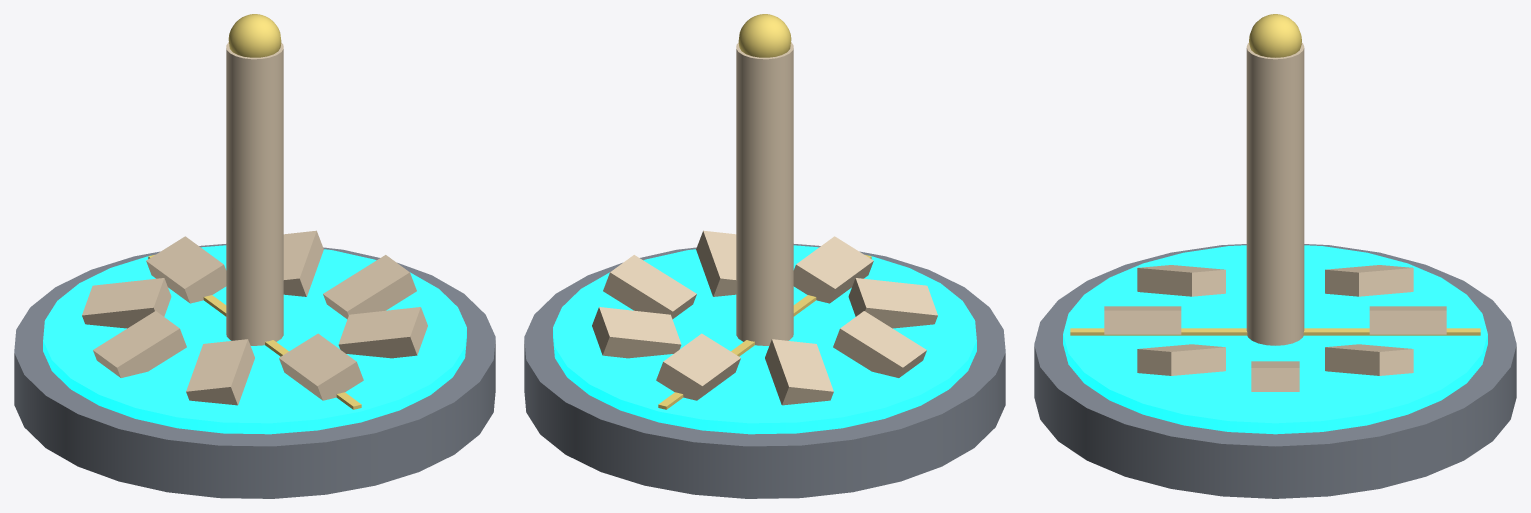
The model's file is Solstitial_Lotus_Gnomon.glb.
3 views of the same model, side by side, from view 1: azimuth 30°, elevation 25°; view 2: azimuth 150°, elevation 25°; view 3: azimuth 270°, elevation 25° (orthographic).
Visible parts, largest first — view 1: OuterBasin, CoolingWater, ChronoPillar, LotusPetal_1, LotusPetal_4, LotusPetal_0, LotusPetal_3, LotusPetal_2, LotusPetal_5, LotusPetal_6, LotusPetal_7, SolarApex (+1 smaller); view 2: OuterBasin, CoolingWater, ChronoPillar, LotusPetal_7, LotusPetal_4, LotusPetal_0, LotusPetal_5, LotusPetal_6, LotusPetal_3, LotusPetal_2, LotusPetal_1, SolarApex (+1 smaller); view 3: CoolingWater, OuterBasin, ChronoPillar, LotusPetal_1, LotusPetal_7, LotusPetal_3, LotusPetal_5, LotusPetal_2, LotusPetal_6, BrassMeridian, SolarApex, LotusPetal_0.
Boxes of the visible parts, bbox=[...] form: OuterBasin: bbox=[14, 244, 495, 498]; CoolingWater: bbox=[43, 245, 466, 434]; ChronoPillar: bbox=[226, 42, 283, 345]; LotusPetal_1: bbox=[338, 307, 427, 358]; LotusPetal_4: bbox=[93, 311, 186, 377]; LotusPetal_0: bbox=[323, 255, 416, 319]; LotusPetal_3: bbox=[186, 339, 254, 405]; LotusPetal_2: bbox=[279, 333, 363, 400]; LotusPetal_5: bbox=[82, 278, 171, 328]; LotusPetal_6: bbox=[146, 236, 226, 303]; LotusPetal_7: bbox=[283, 230, 323, 296]; SolarApex: bbox=[228, 14, 281, 57]; OuterBasin: bbox=[524, 244, 1005, 498]; CoolingWater: bbox=[553, 245, 976, 434]; ChronoPillar: bbox=[736, 42, 793, 345]; LotusPetal_7: bbox=[592, 307, 681, 358]; LotusPetal_4: bbox=[833, 311, 926, 377]; LotusPetal_0: bbox=[603, 255, 696, 319]; LotusPetal_5: bbox=[765, 339, 833, 405]; LotusPetal_6: bbox=[656, 333, 740, 400]; LotusPetal_3: bbox=[848, 278, 937, 328]; LotusPetal_2: bbox=[793, 236, 873, 303]; LotusPetal_1: bbox=[696, 230, 736, 296]; SolarApex: bbox=[738, 14, 791, 57]; CoolingWater: bbox=[1063, 245, 1487, 434]; OuterBasin: bbox=[1034, 244, 1516, 498]; ChronoPillar: bbox=[1246, 42, 1304, 345]; LotusPetal_1: bbox=[1137, 344, 1225, 375]; LotusPetal_7: bbox=[1325, 344, 1413, 375]; LotusPetal_3: bbox=[1137, 265, 1225, 296]; LotusPetal_5: bbox=[1325, 265, 1413, 296]; LotusPetal_2: bbox=[1104, 306, 1181, 334]; LotusPetal_6: bbox=[1369, 306, 1446, 334]; BrassMeridian: bbox=[1070, 328, 1480, 335]; SolarApex: bbox=[1249, 14, 1301, 57]; LotusPetal_0: bbox=[1251, 361, 1299, 391].
Bounding box in the file's own units: 0.2 × 0.174 × 0.2.
